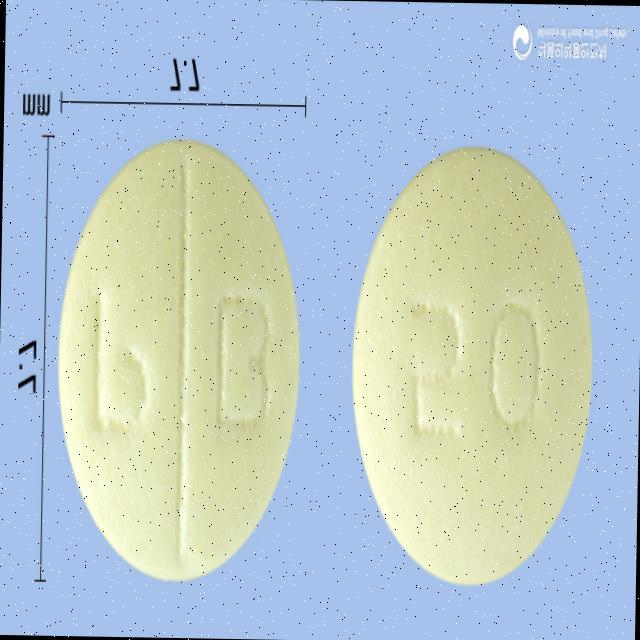Azabio: (51, 134, 305, 592)
